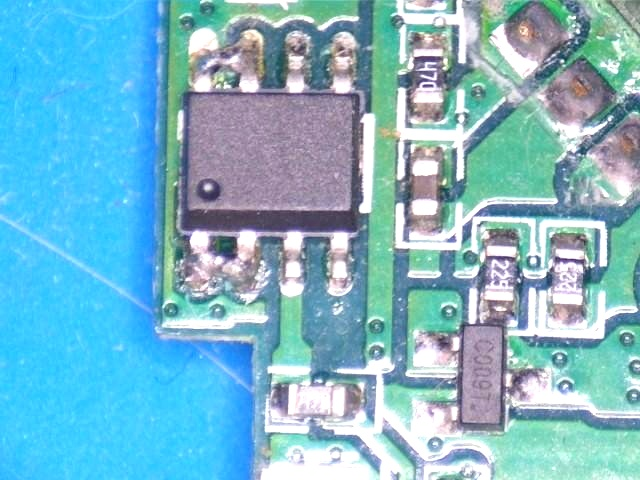pcb_defect: (180, 231, 270, 303), (194, 32, 260, 91)
